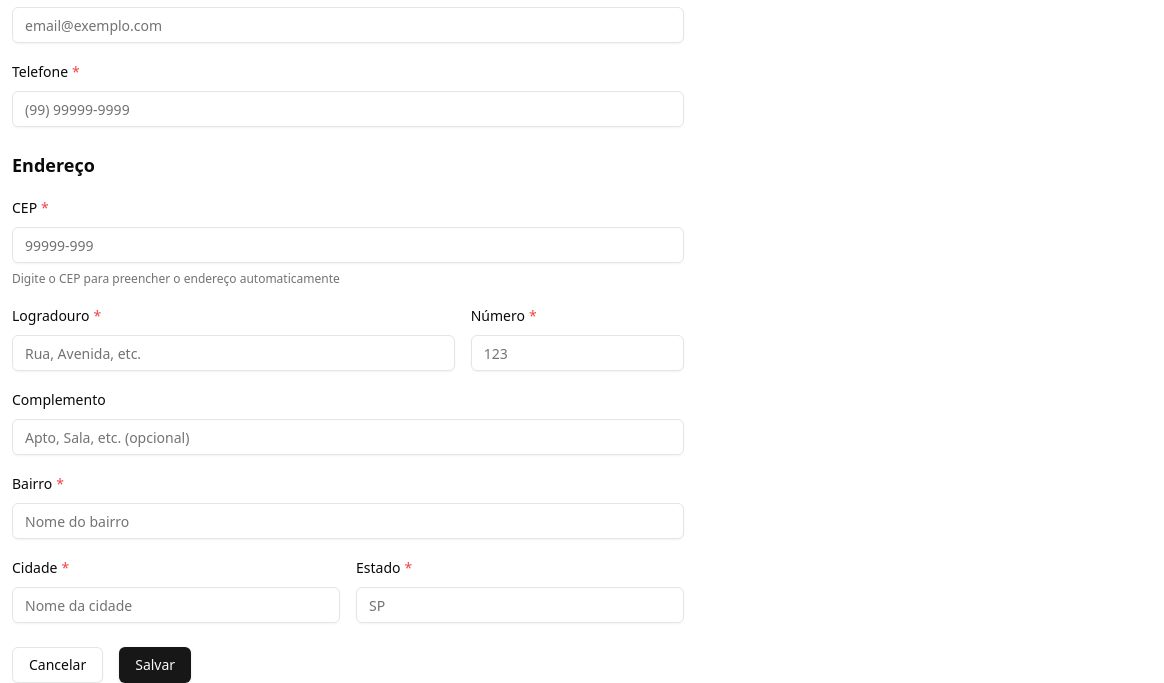
Scenario: BarbershopCreate › submits form and shows success state
The width and height of the screenshot is (1164, 683).
(page scrolled)
Click the button "Salvar". click: x=155, y=665
box: [119,647,191,682]
(page scrolled)
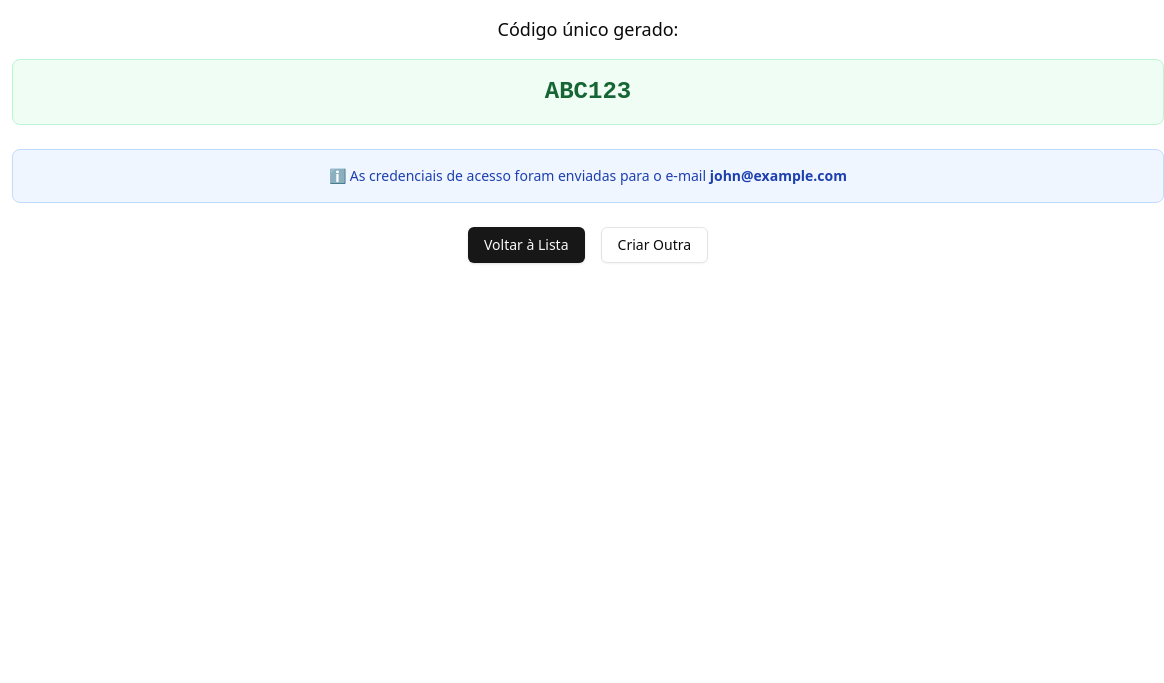
Result: the text "ABC123" is shown at [545,78,631,105]
Result: the button "Voltar à Lista" is shown at [468,227,584,263]
Result: the button "Criar Outra" is shown at [600,227,708,263]
